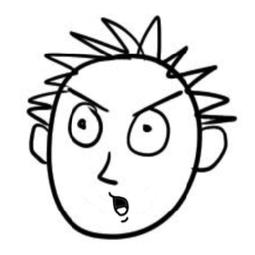ear: (196, 125, 233, 171), (28, 121, 55, 164)
eye: (119, 109, 179, 158), (65, 102, 106, 149)
frowning_eyebrow: (133, 88, 182, 116), (69, 87, 113, 114)
open_mouth: (107, 194, 136, 218)
pointy_nose: (92, 150, 125, 185)
